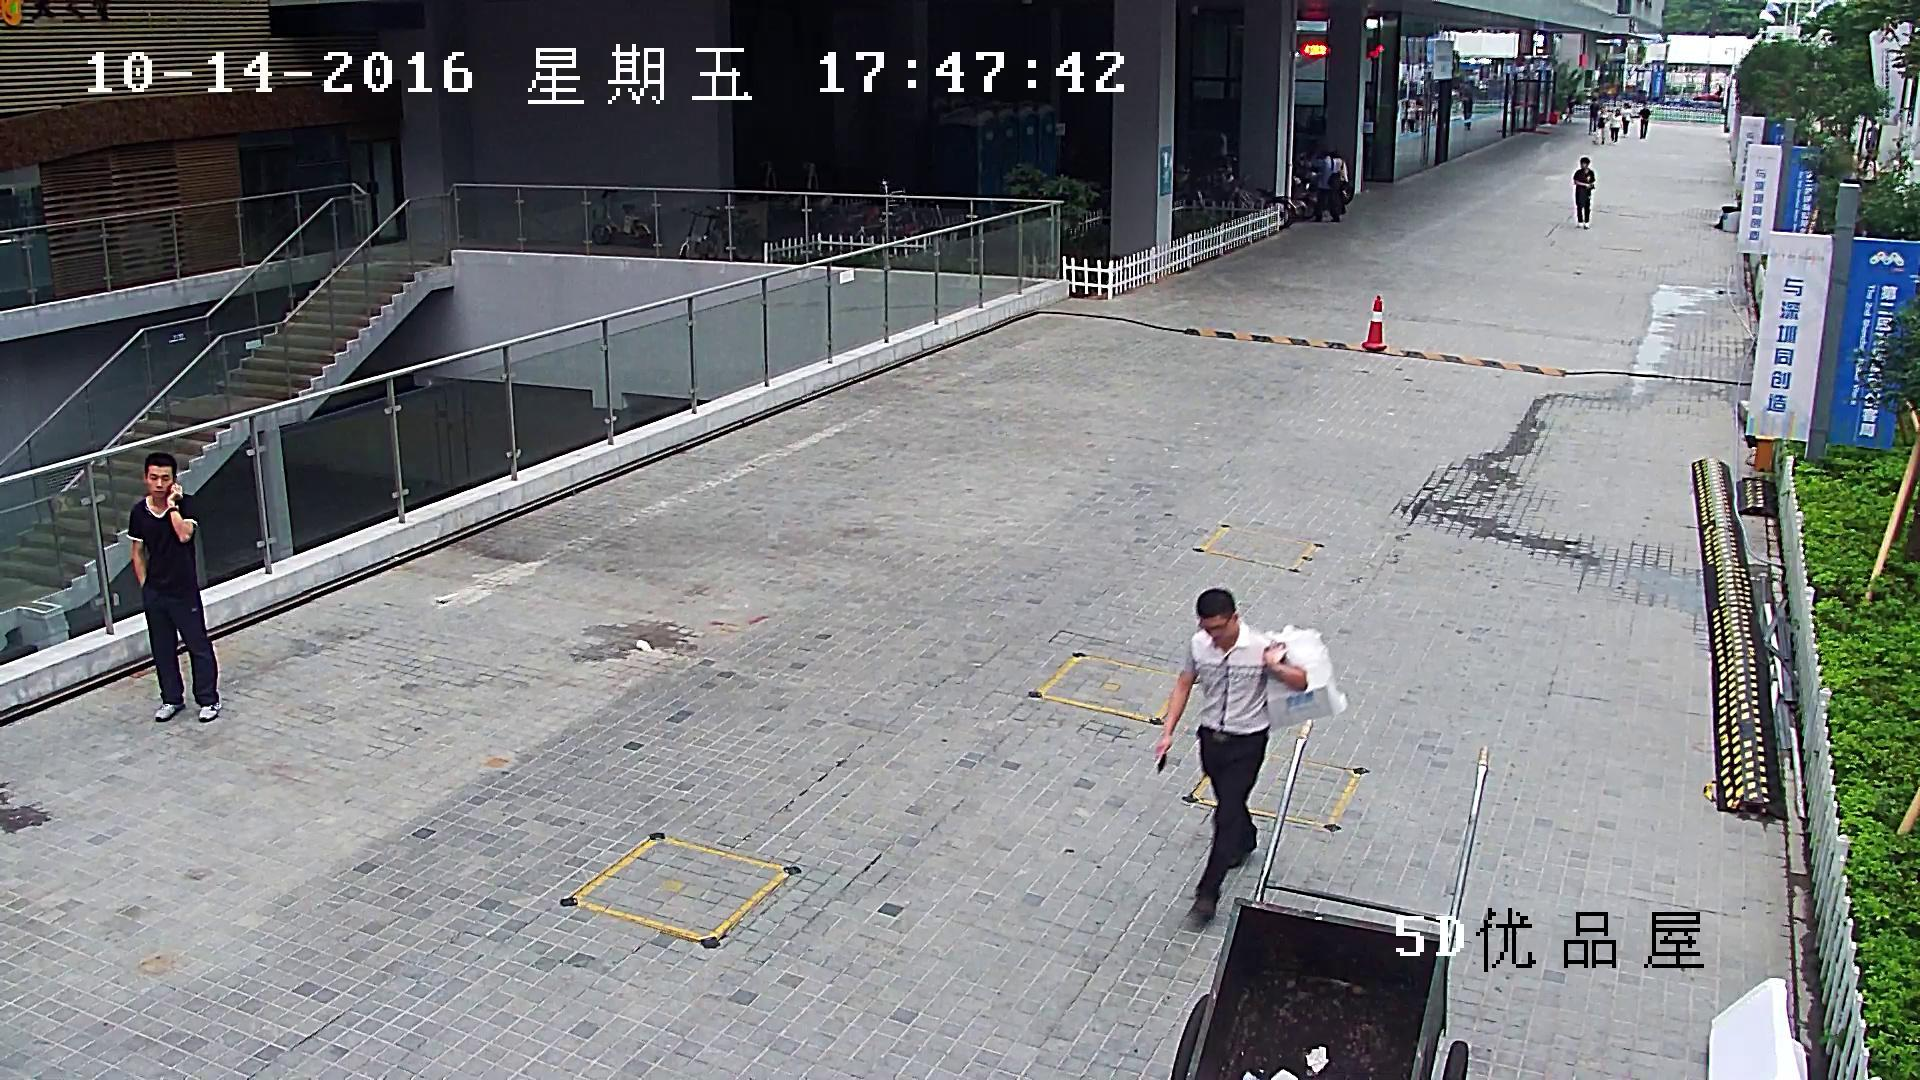person: (1157, 589, 1343, 927), (1155, 589, 1304, 927), (129, 453, 222, 721), (1314, 152, 1342, 225), (1574, 157, 1595, 230), (1331, 153, 1350, 224), (1861, 118, 1879, 177), (1594, 106, 1608, 145), (1460, 92, 1472, 132), (1588, 97, 1600, 134), (1638, 103, 1650, 139), (1564, 89, 1575, 125), (1610, 110, 1621, 144), (1621, 103, 1630, 137)
